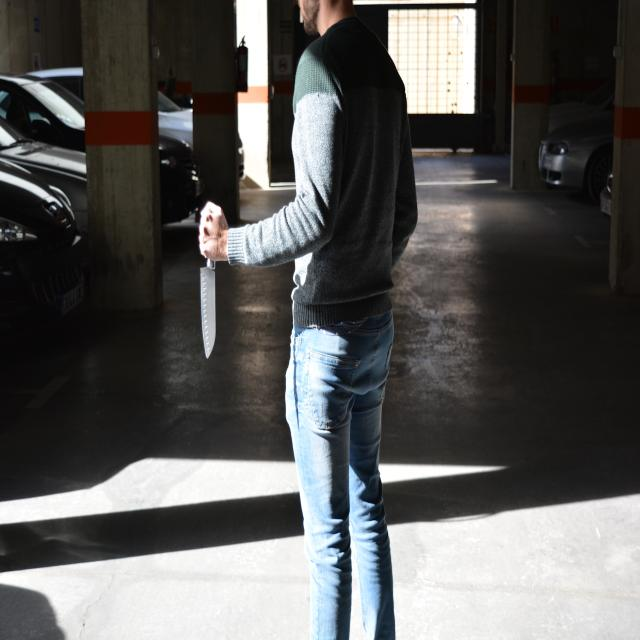knife: (198, 251, 224, 365)
